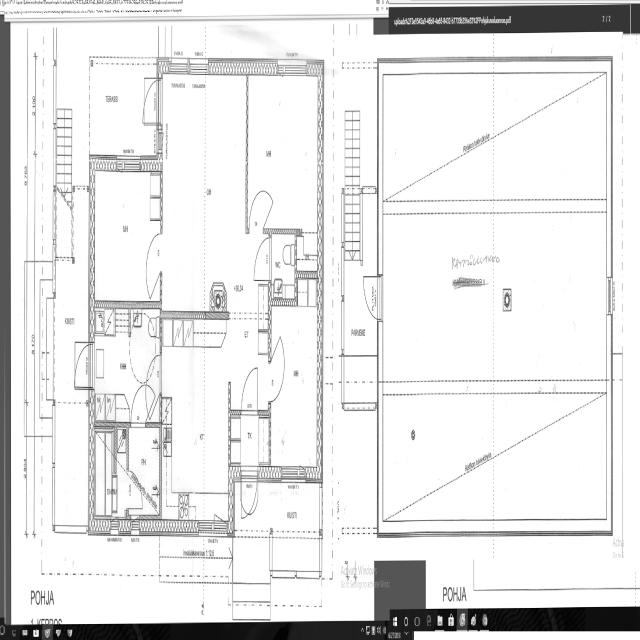door: (143, 226, 164, 286), (140, 73, 161, 127), (240, 363, 260, 418), (247, 185, 268, 233), (72, 340, 92, 390), (268, 351, 286, 403), (252, 234, 271, 283), (362, 273, 381, 319), (128, 379, 146, 426), (241, 474, 259, 518)
window: (116, 152, 142, 176), (279, 56, 307, 78), (604, 272, 616, 318), (338, 291, 345, 366), (169, 56, 190, 77), (188, 54, 207, 77)
zone: (162, 320, 230, 524), (544, 209, 610, 387), (249, 76, 319, 230), (162, 72, 206, 316), (381, 217, 442, 390), (268, 287, 322, 474), (205, 73, 248, 304), (91, 168, 162, 302), (496, 207, 547, 385), (92, 307, 160, 422), (115, 419, 162, 519), (379, 396, 413, 529), (130, 305, 162, 394), (227, 412, 270, 478), (91, 420, 117, 522), (137, 332, 163, 422), (270, 230, 295, 300), (295, 228, 319, 275)
